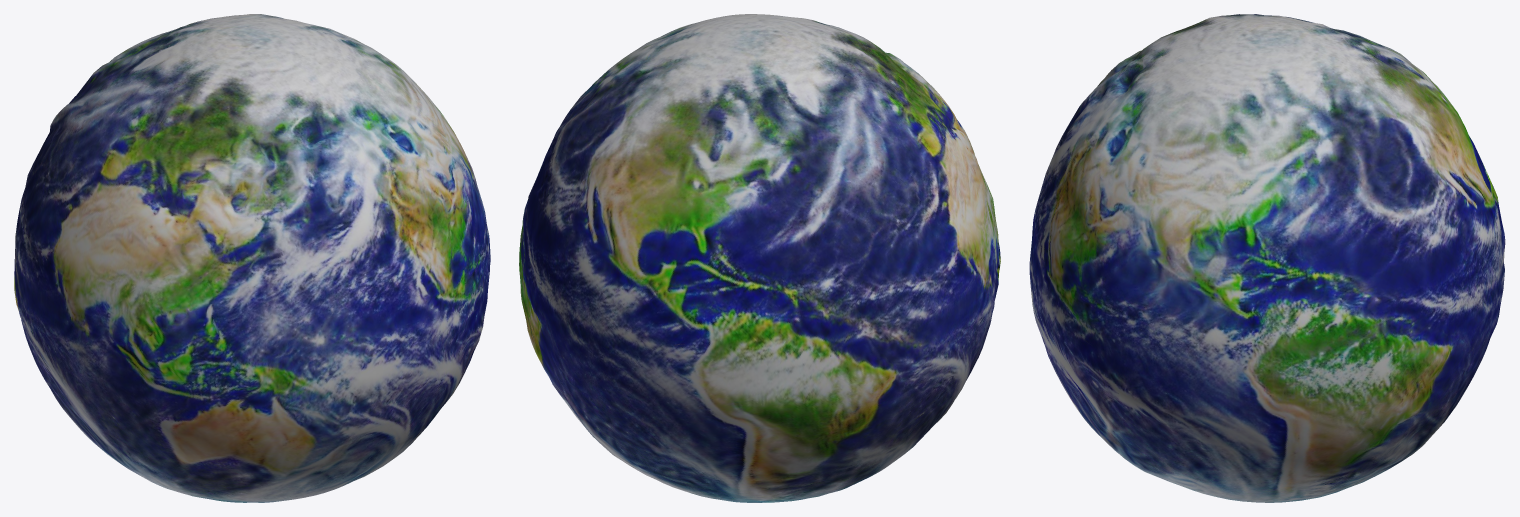
File: earth.glb
3 renders of one model, left to right at view 1: azimuth 30°, elevation 25°; view 2: azimuth 150°, elevation 25°; view 3: azimuth 270°, elevation 25°, orthographic.
Visible parts, largest first — view 1: mesh_base_material_0; view 2: mesh_base_material_0; view 3: mesh_base_material_0.
Part boxes in pixels (bbox=[...]): mesh_base_material_0: bbox=[14, 14, 490, 502]; mesh_base_material_0: bbox=[519, 14, 1000, 502]; mesh_base_material_0: bbox=[1029, 14, 1505, 502].
Size of the model in its own units: 0.9804 by 0.9995 by 0.9754.
1 material, 1 textured.
